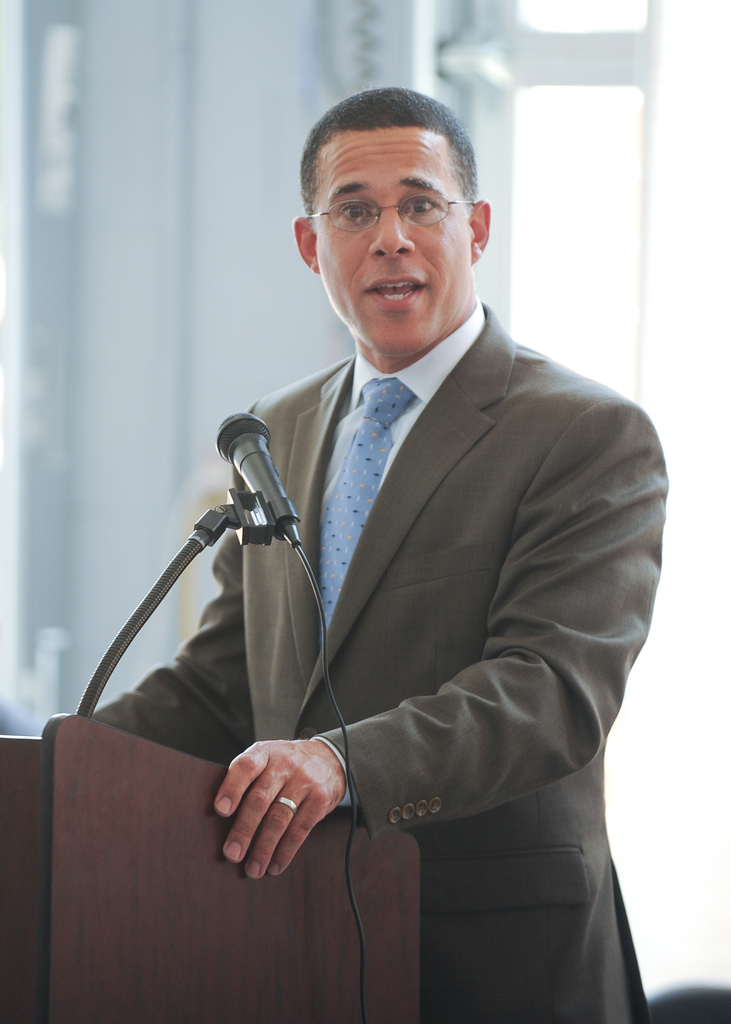Human_hand: (210, 737, 342, 882)
